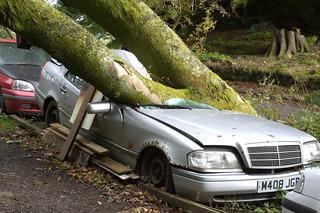bonnet-dent: (162, 108, 303, 166)
fender-dent: (83, 100, 189, 164)
